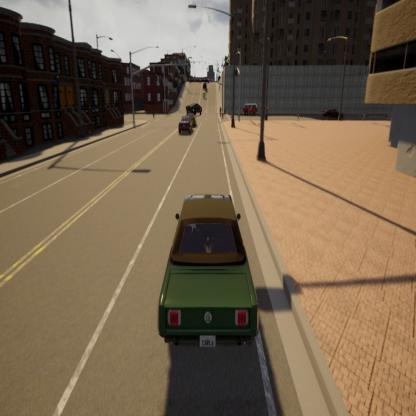Cars: (152, 170, 264, 370), (317, 98, 344, 126), (177, 113, 195, 138), (240, 100, 259, 123), (185, 98, 206, 118), (199, 88, 209, 102), (203, 78, 209, 92)
Pedestrian: (264, 97, 270, 127), (218, 101, 223, 121)
